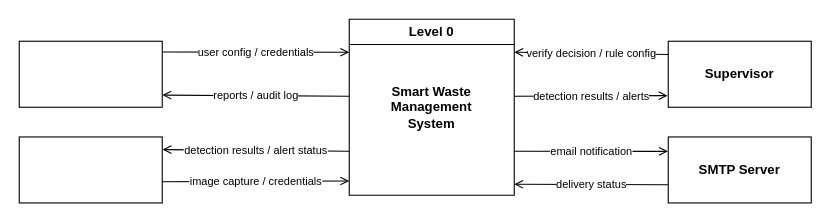
Some shapes in this 831 by 222 pixel diagram are drawn without their labels. Each missing label, with the centre of its shape:
Admin: point 90,73
Operator: point 90,169
